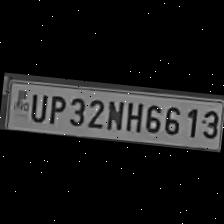1: (181, 103, 200, 138)
2: (84, 93, 106, 129)
3: (196, 104, 220, 140), (64, 92, 86, 126)
6: (160, 102, 183, 137), (141, 98, 163, 134)
H: (122, 96, 144, 132)
N: (103, 95, 125, 131)
P: (44, 90, 66, 126)
U: (25, 90, 47, 122)
